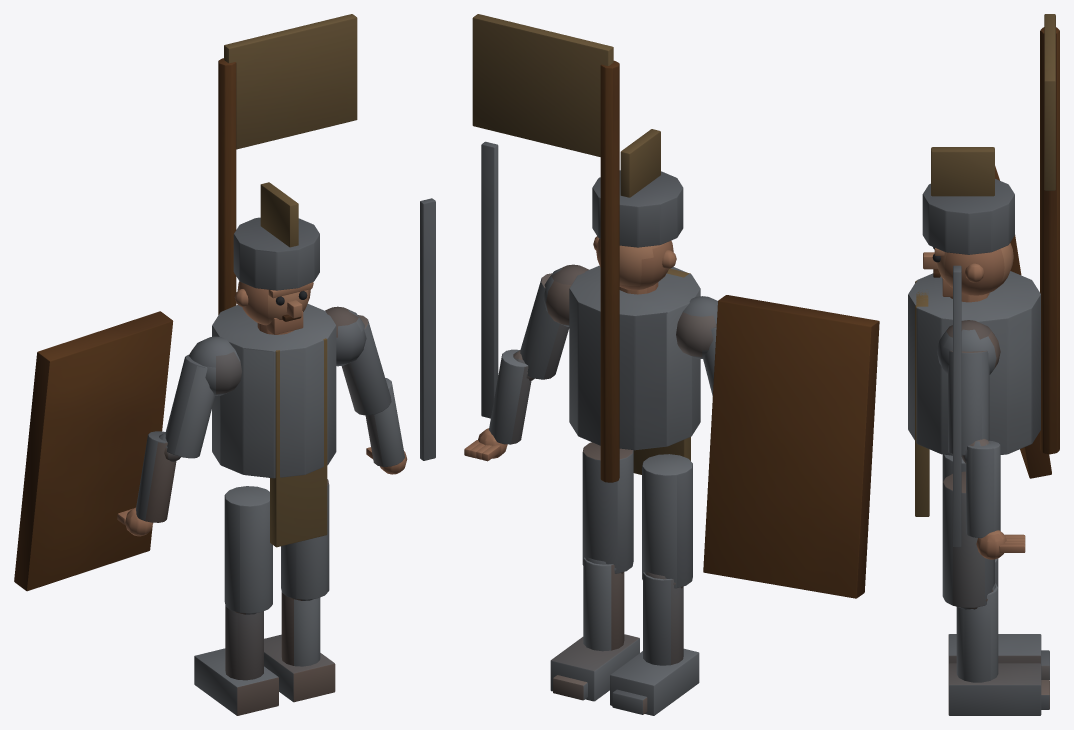
Rendered from unit_royal_legion_marshal.fbx.
The picture shows the model from 3 angles, left to right: view 1: azimuth 30°, elevation 25°; view 2: azimuth 150°, elevation 25°; view 3: azimuth 270°, elevation 25°; orthographic projection. The views are drawn at different scales.
Visible parts, largest first — view 1: unit_royal_legion_marshal; view 2: unit_royal_legion_marshal; view 3: unit_royal_legion_marshal.
Boxes of the visible parts, x1,y1,x2,y2 form: unit_royal_legion_marshal: (14, 14, 435, 715); unit_royal_legion_marshal: (464, 14, 879, 715); unit_royal_legion_marshal: (908, 14, 1059, 715).
Size of the model in its own units: 1.65 by 2.55 by 0.5233.
